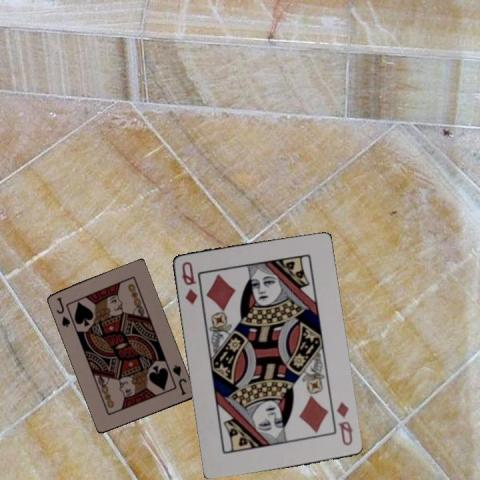Js: (170, 362, 189, 397), (53, 294, 72, 329)
Qd: (333, 398, 354, 447), (178, 258, 198, 305)
